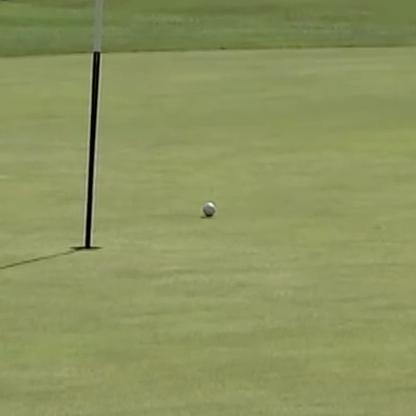golfball: (202, 197, 213, 213)
